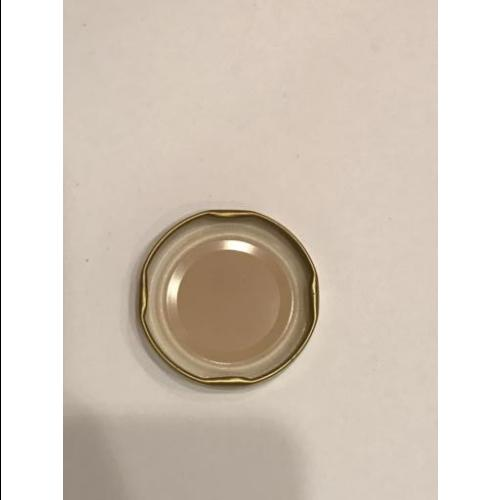metal: (137, 209, 321, 388)
